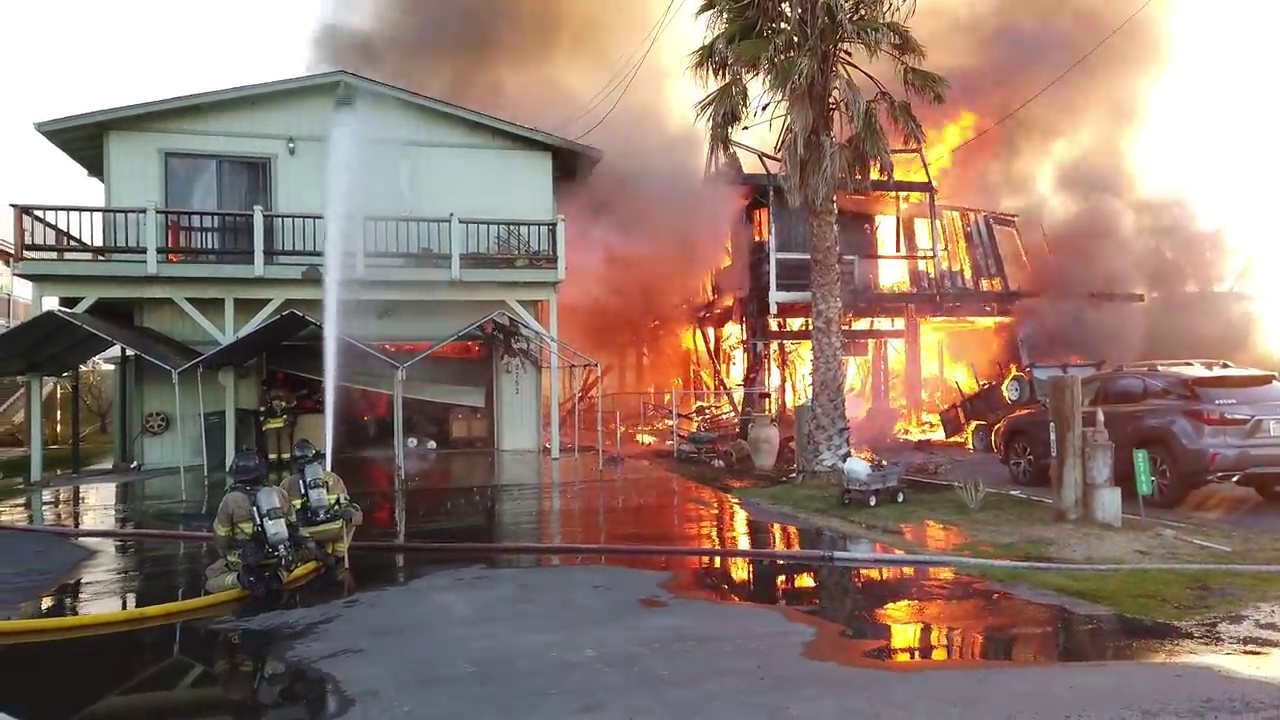fire: (650, 107, 1022, 628), (1246, 300, 1279, 360), (1180, 357, 1277, 374), (877, 257, 910, 287), (978, 271, 1006, 291), (1066, 349, 1086, 361)
smoke: (301, 0, 721, 251), (984, 0, 1243, 354)
